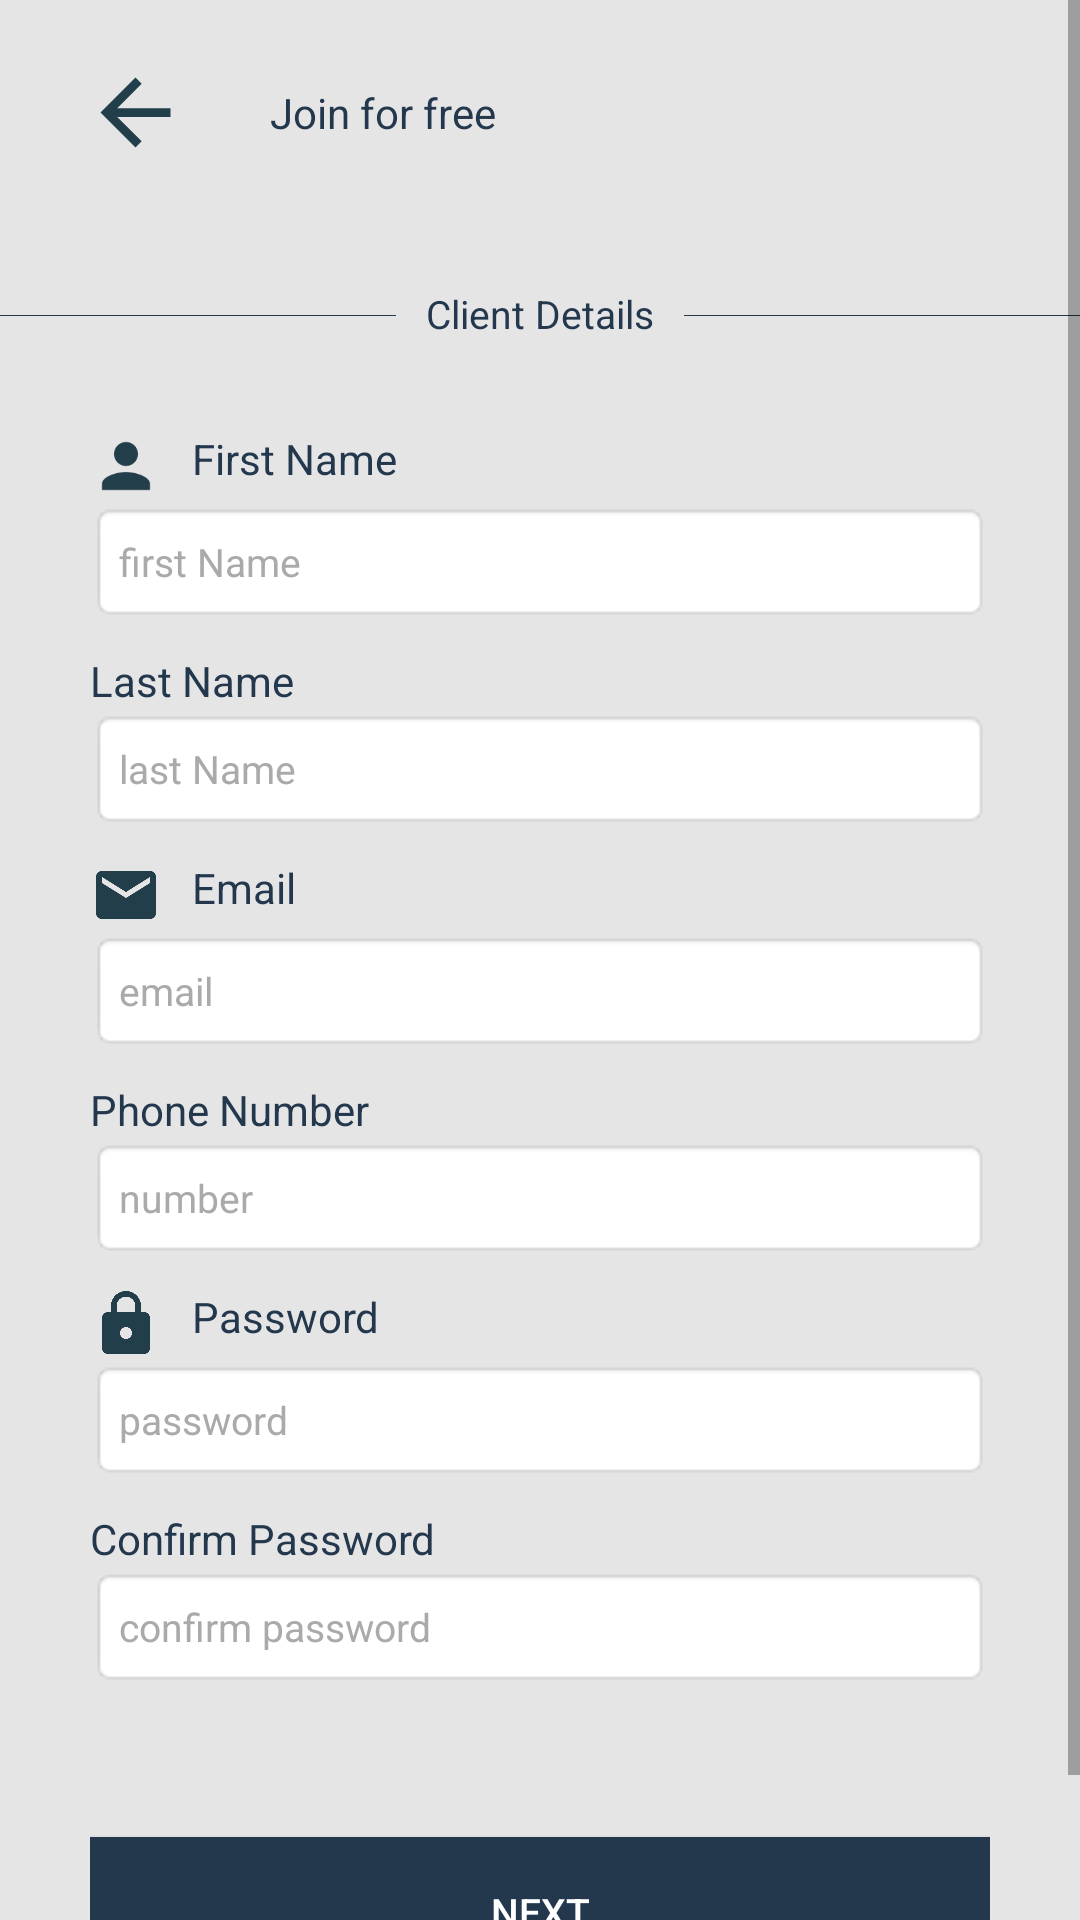

Named icons in this screenshot (1080*1920) and their centers, (x=x, y=y):
back: (x=135, y=112)
